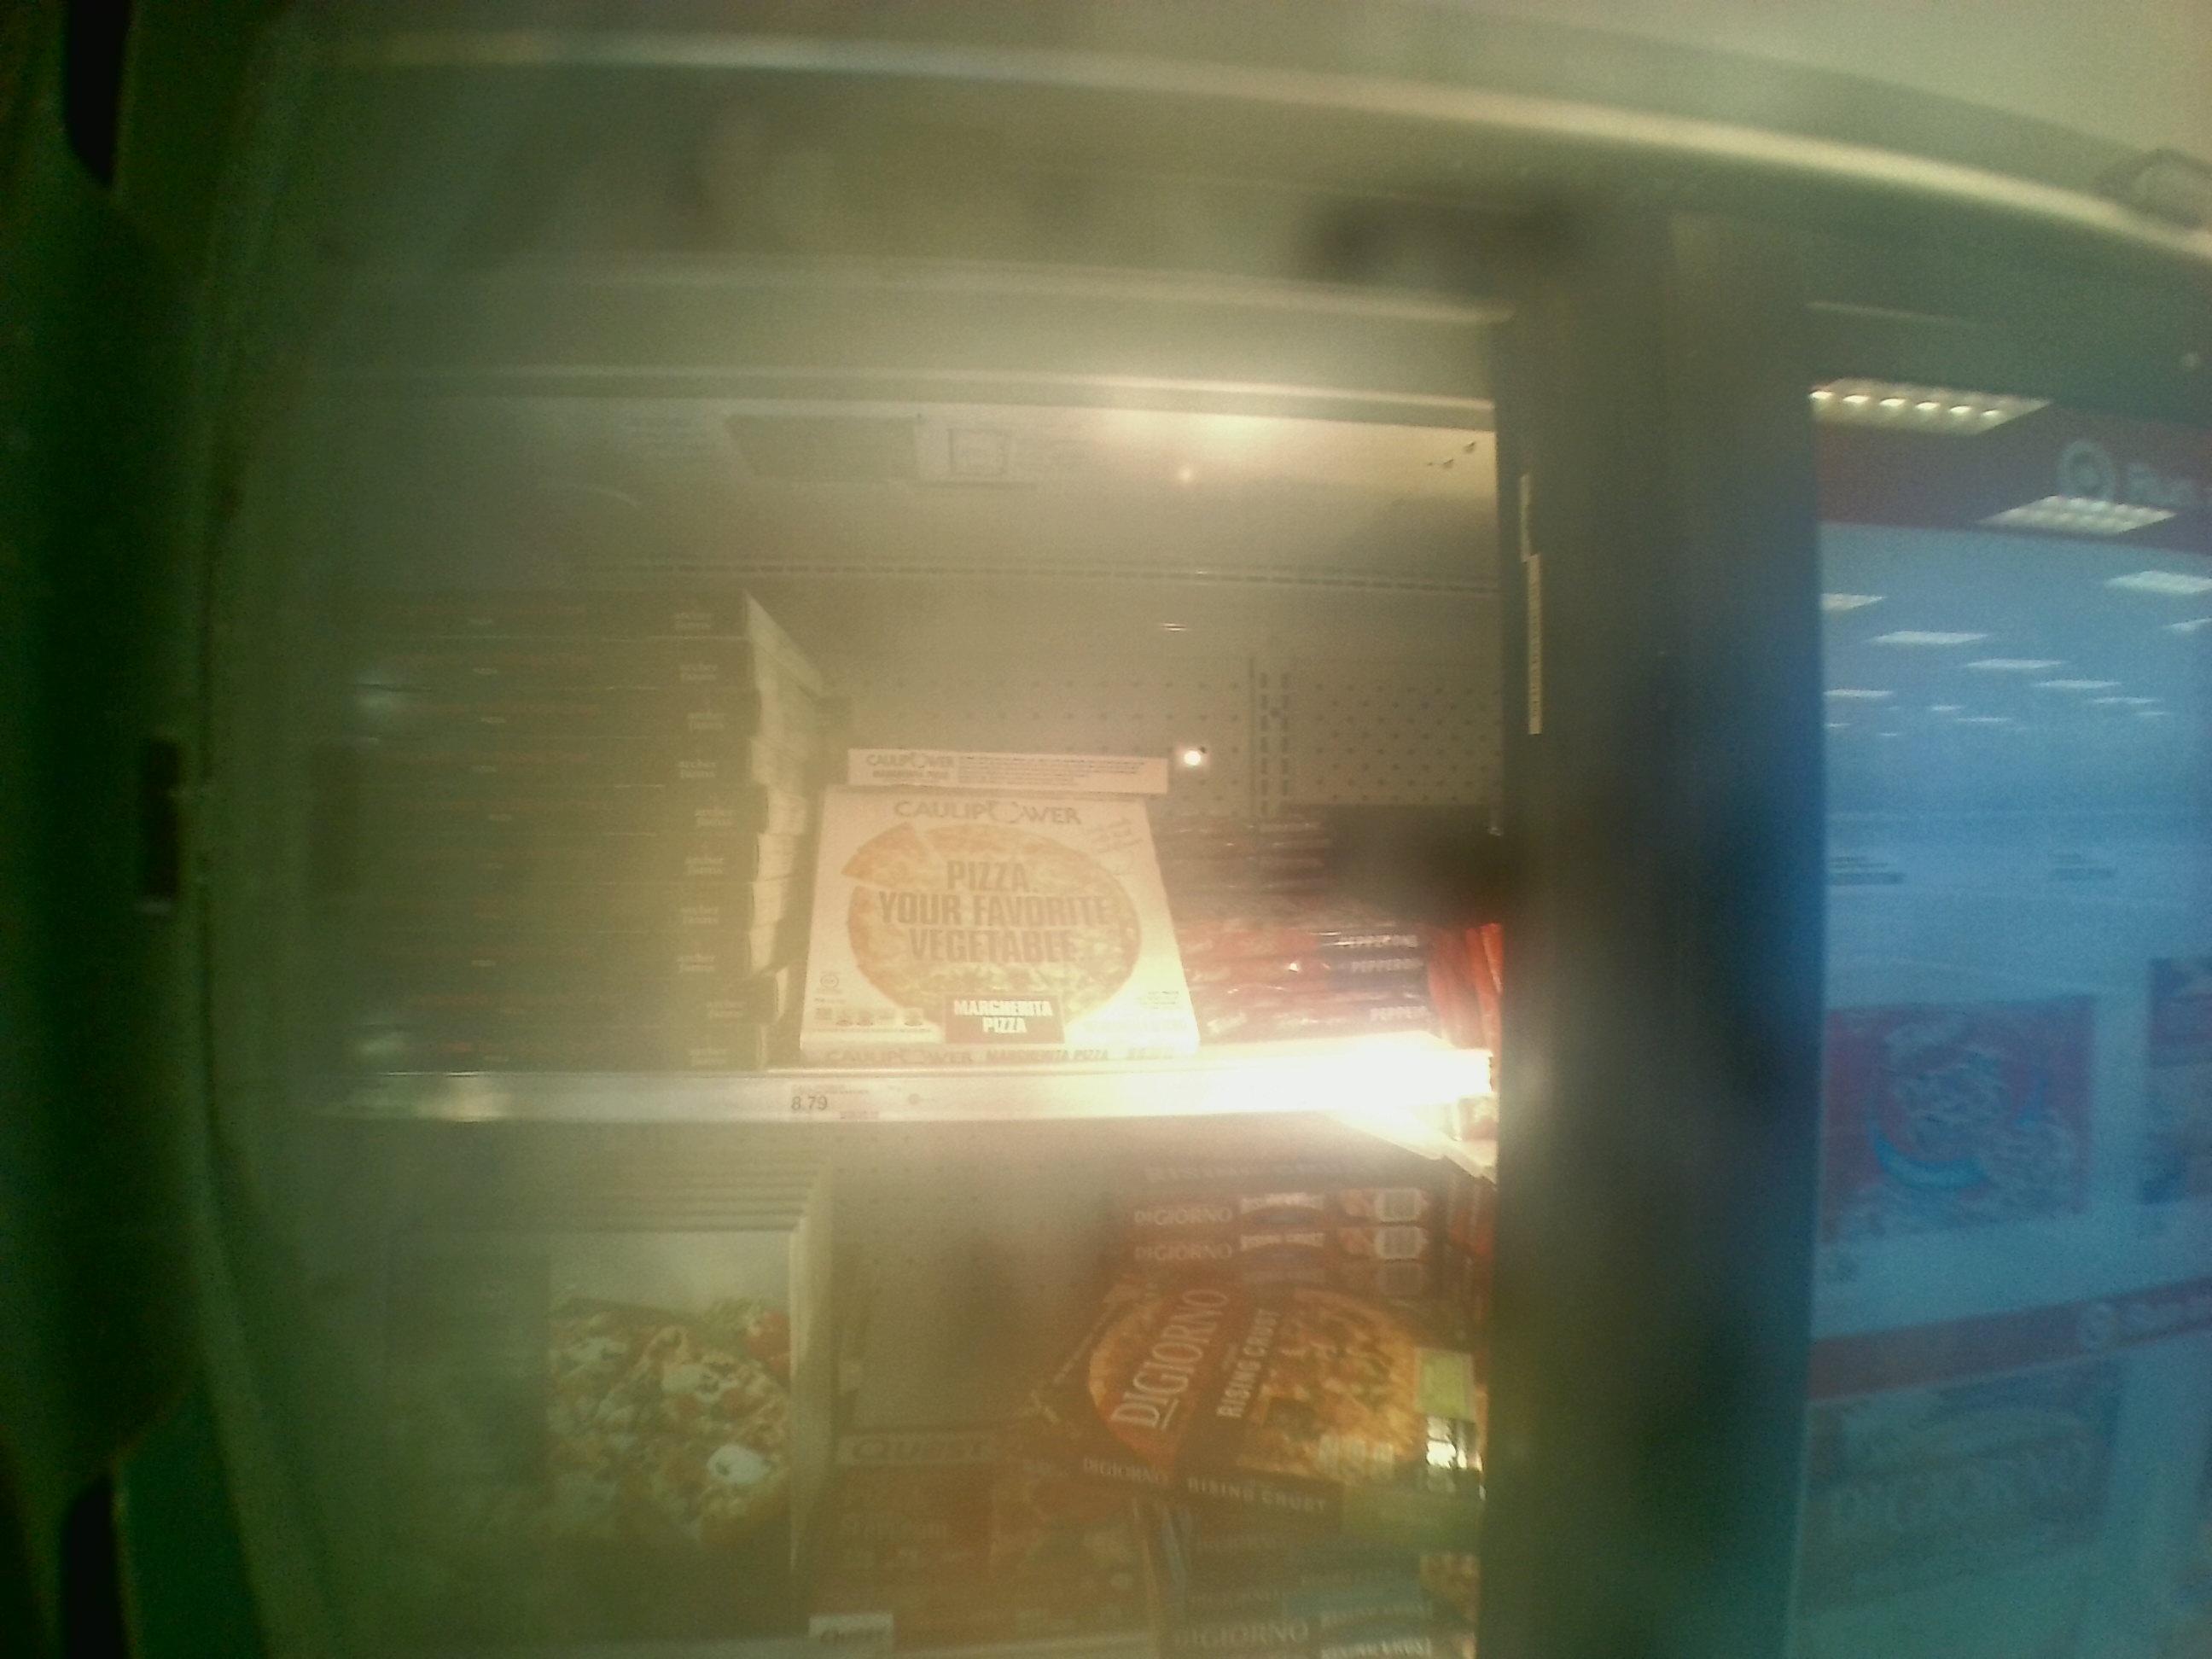shelf: (291, 350, 1480, 1119)
